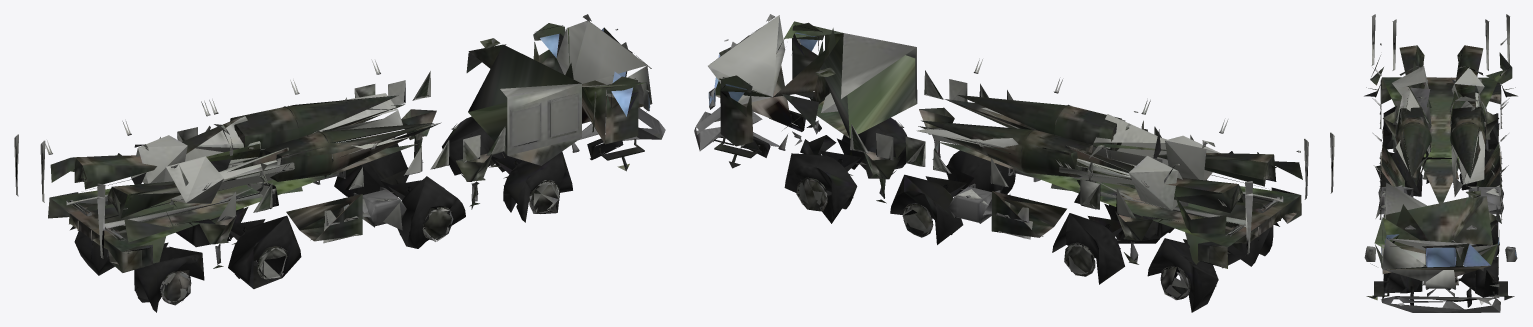
File: iskander_lo.glb
3 renders of one model, left to right at view 1: azimuth 30°, elevation 25°; view 2: azimuth 150°, elevation 25°; view 3: azimuth 270°, elevation 25°, orthographic. The views are drawn at different scales.
Parts seen in each view (by area): view 1: g_iskander_hull, g_iskander_gun; view 2: g_iskander_hull, g_iskander_gun; view 3: g_iskander_hull, g_iskander_gun.
Part boxes in pixels (x1,y1,x2,y2): g_iskander_hull: [14, 14, 665, 312]; g_iskander_gun: [50, 93, 441, 242]; g_iskander_hull: [694, 14, 1334, 312]; g_iskander_gun: [916, 95, 1302, 233]; g_iskander_hull: [1364, 14, 1517, 312]; g_iskander_gun: [1364, 45, 1517, 196].
Bounding box in the file's own units: 12.87 × 3.12 × 3.74.
2 materials, 2 textured.
